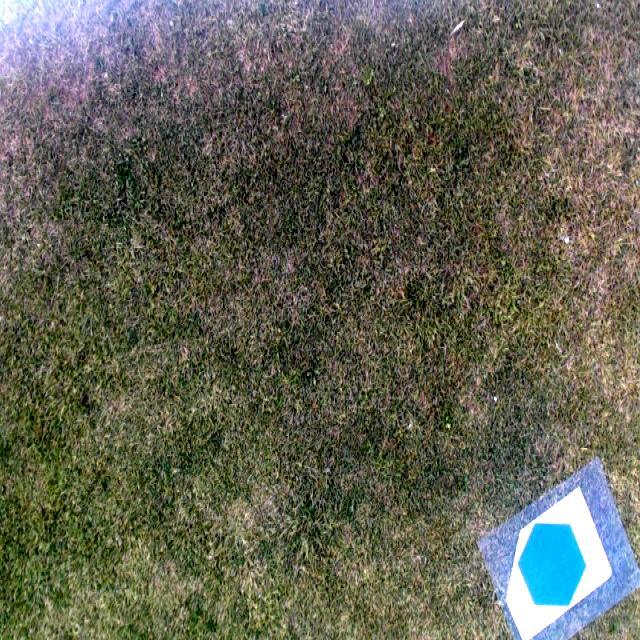blue_hexagon: (519, 523, 587, 609)
